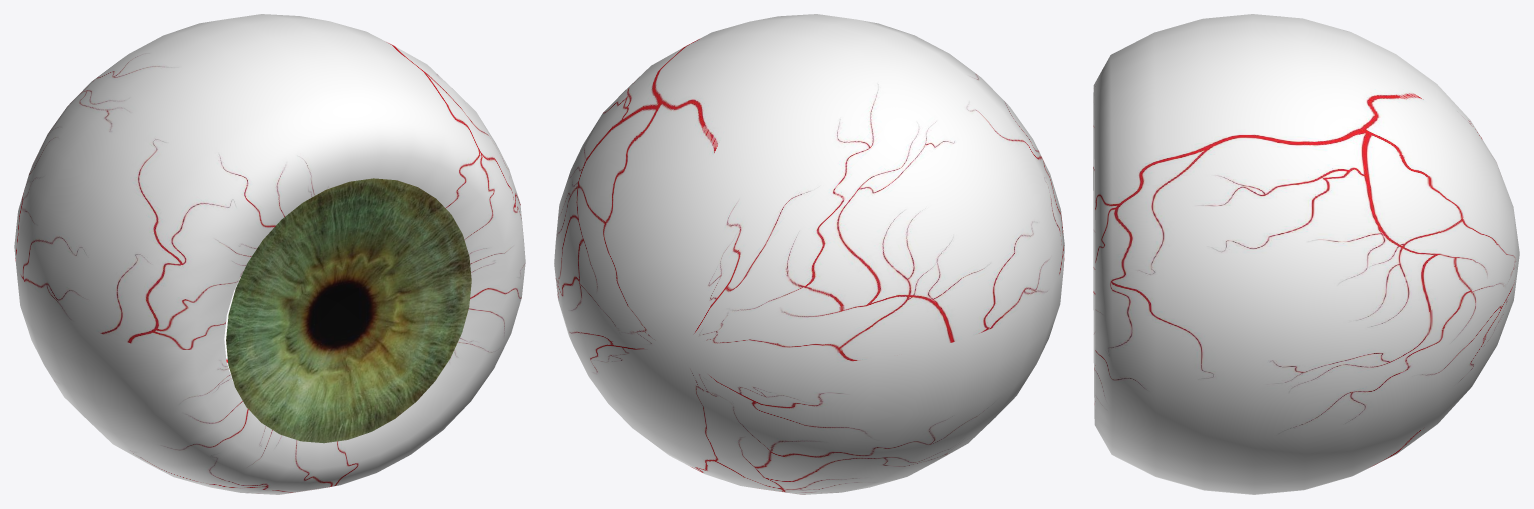
Rendered from oeil.gltf.
3 renders of one model, left to right at view 1: azimuth 30°, elevation 25°; view 2: azimuth 150°, elevation 25°; view 3: azimuth 270°, elevation 25°, orthographic.
Visible parts, largest first — view 1: Sphere; view 2: Sphere; view 3: Sphere.
Part boxes in pixels (x1,y1,x2,y2): Sphere: (14,14,525,494); Sphere: (554,14,1064,494); Sphere: (1093,14,1519,494).
Bounding box in the file's own units: 2 × 1.85 × 1.66.
2 materials, 2 textured.
